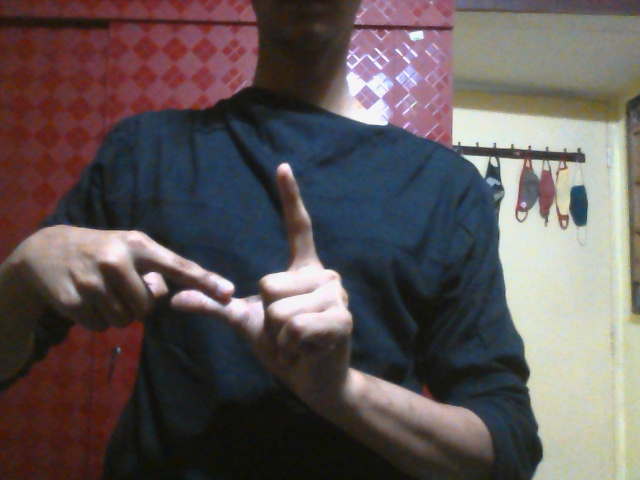J: (42, 160, 354, 372)
